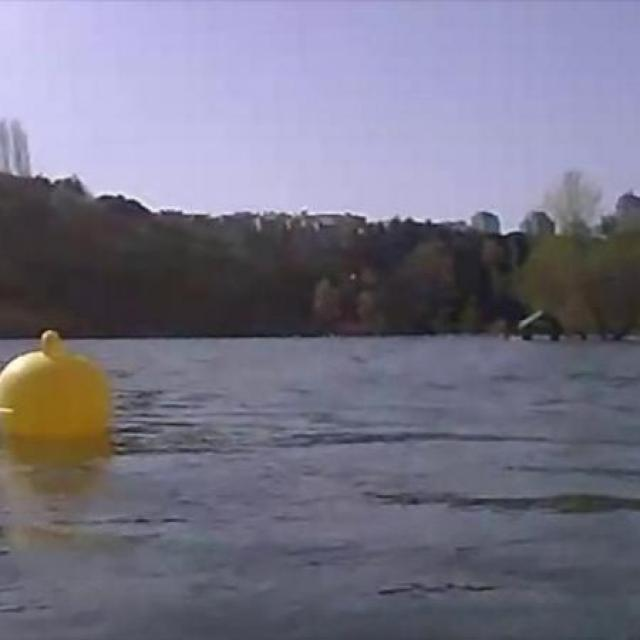buoy: (0, 327, 117, 458)
